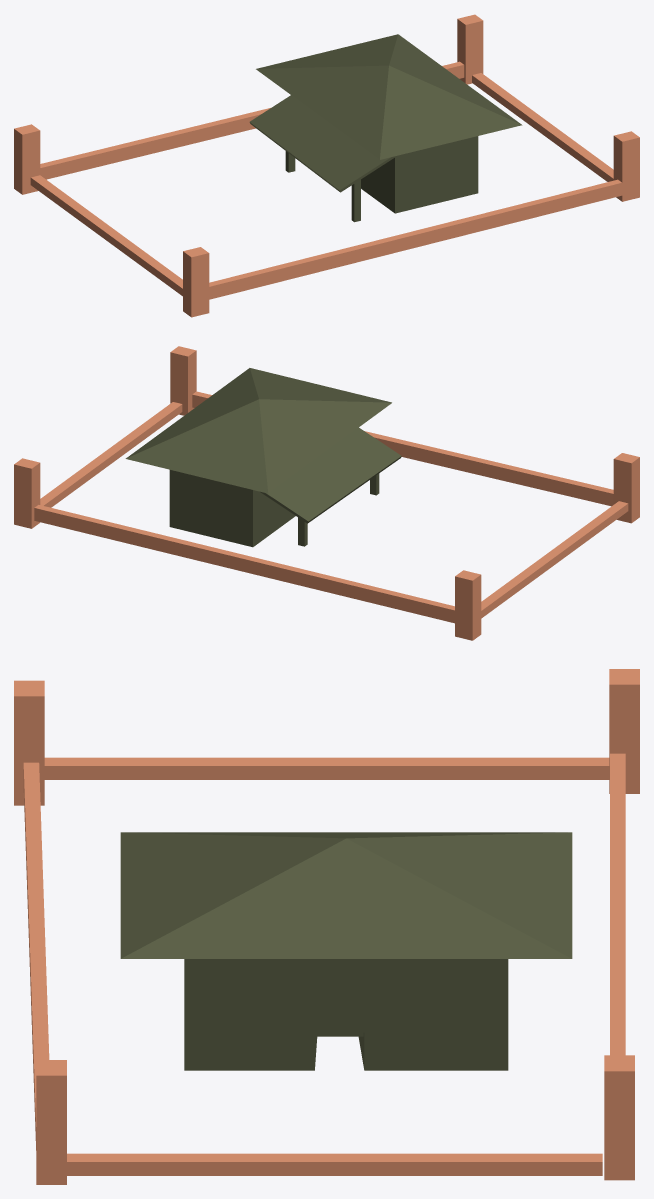
The model's file is CentralNurseryFIN.glb.
3 renders of one model, top to bottom at view 1: azimuth 30°, elevation 25°; view 2: azimuth 150°, elevation 25°; view 3: azimuth 270°, elevation 25°, orthographic. The views are drawn at different scales.
Parts seen in each view (by area): view 1: Cube, Cube.009, Cube.001, Cube.008, Cube.011, Cube.010, Cube.006, Cube.005, Cube.002, Cube.004; view 2: Cube, Cube.008, Cube.001, Cube.009, Cube.011, Cube.010, Cube.005, Cube.004, Cube.006, Cube.002; view 3: Cube, Cube.011, Cube.010, Cube.009, Cube.008, Cube.004, Cube.002, Cube.005, Cube.006.
Part boxes in pixels (box(x1,y1,x2,y2)): Cube: box(256, 34, 522, 213); Cube.009: box(209, 179, 622, 299); Cube.001: box(249, 95, 397, 192); Cube.008: box(40, 61, 464, 179); Cube.011: box(30, 175, 182, 296); Cube.010: box(472, 73, 613, 181); Cube.006: box(183, 247, 209, 317); Cube.005: box(14, 124, 40, 194); Cube.002: box(613, 131, 639, 201); Cube.004: box(457, 14, 483, 84); Cube: box(125, 368, 391, 547); Cube.008: box(34, 505, 454, 623); Cube.001: box(260, 427, 401, 523); Cube.009: box(192, 391, 613, 506); Cube.011: box(481, 501, 628, 618); Cube.010: box(40, 402, 182, 507); Cube.005: box(455, 570, 481, 640); Cube.004: box(14, 458, 40, 528); Cube.006: box(613, 453, 639, 523); Cube.002: box(170, 346, 196, 415); Cube: box(120, 832, 572, 1070); Cube.011: box(44, 757, 609, 779); Cube.010: box(67, 1153, 602, 1175); Cube.009: box(23, 762, 49, 1150); Cube.008: box(610, 753, 625, 1055); Cube.004: box(604, 1055, 634, 1180); Cube.002: box(36, 1060, 66, 1184); Cube.005: box(609, 669, 639, 793); Cube.006: box(14, 680, 44, 805).
Size of the model in its own units: 36.98 by 8.79 by 24.
